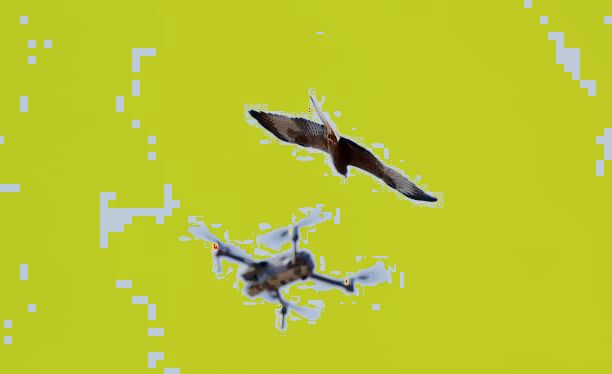Bird: (245, 91, 439, 207)
Drone: (188, 213, 384, 334)
